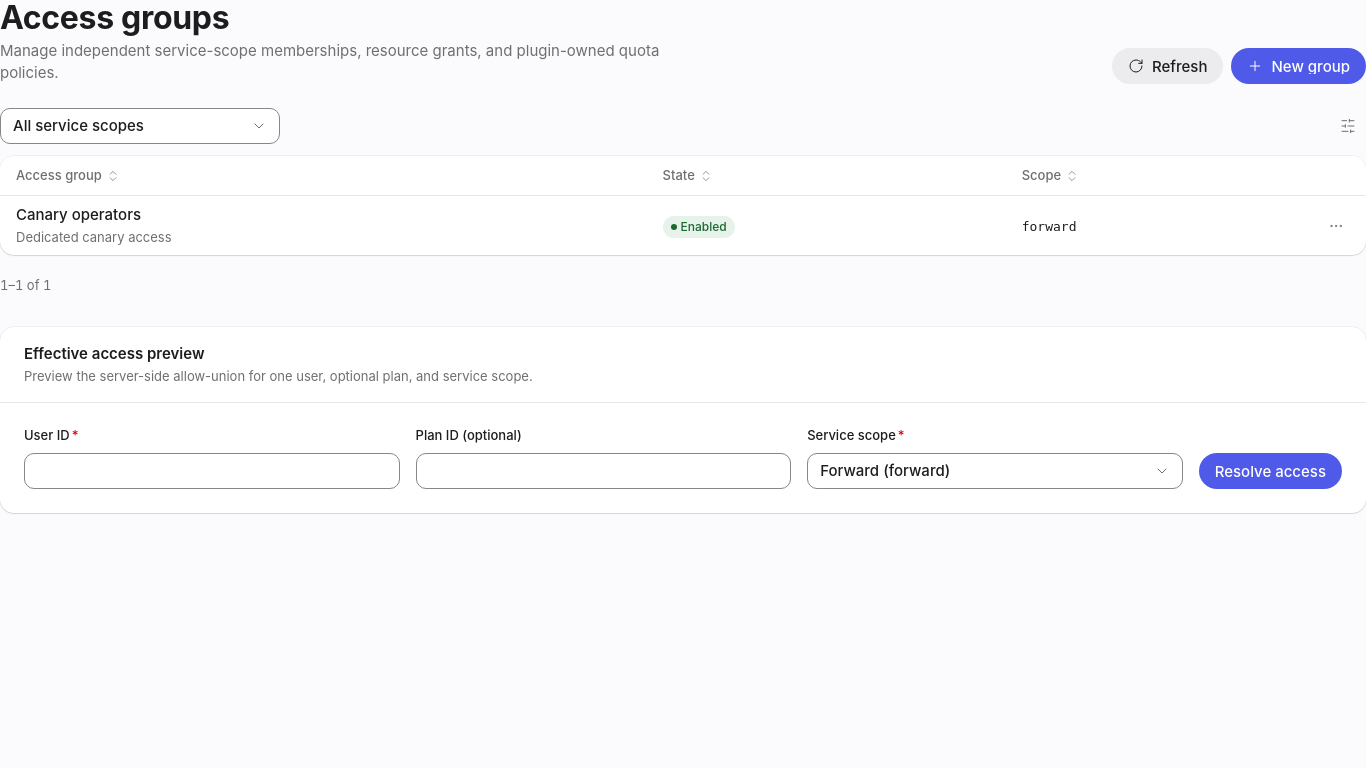
Test: AccessGroups.vue › dialogs and feedback › shows a failed grant removal inside the confirmation
Click the text "Canary operators". click: (78, 215)
box: [16, 205, 141, 224]
(page scrolled)
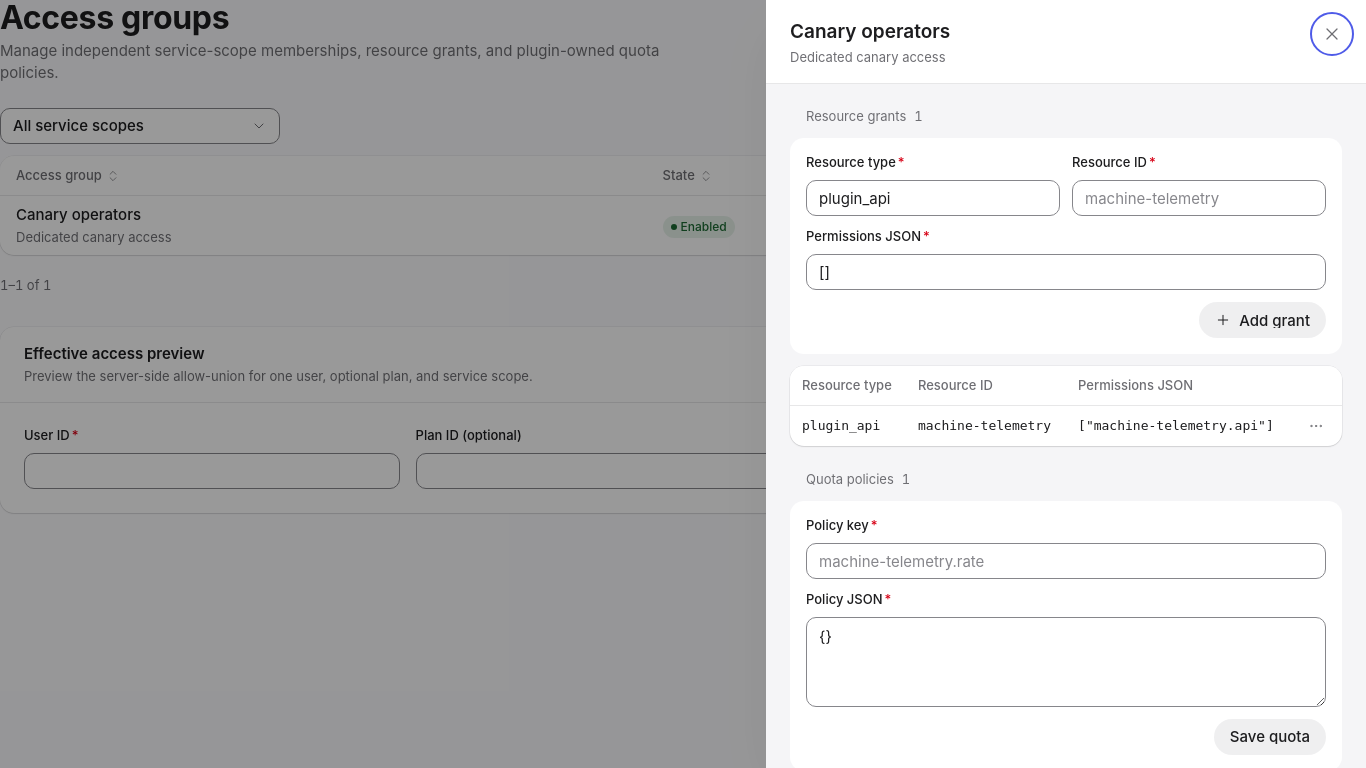
Click the button named "Actions for plugin_api/machine-telemetry". click: (1316, 426)
box: [1302, 412, 1330, 440]
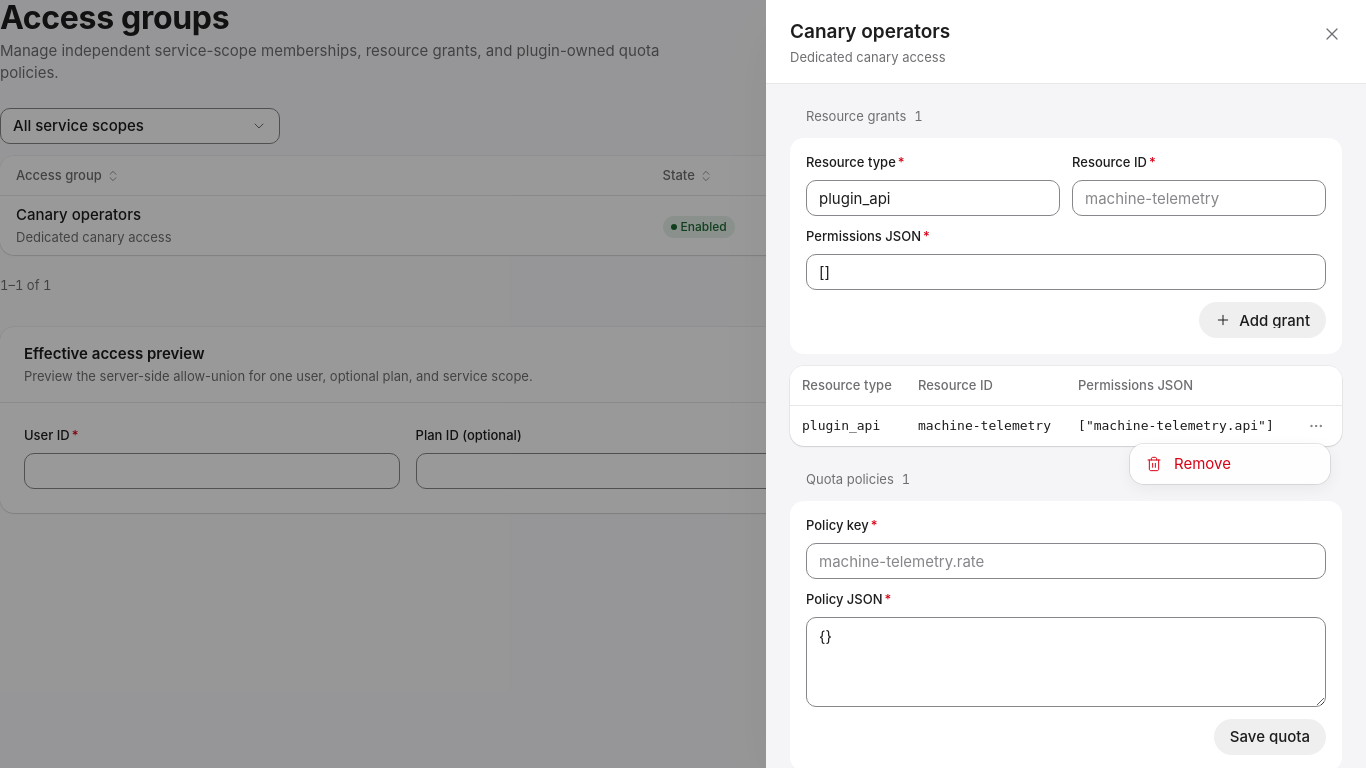
Click the menu item "Remove". click: (1188, 464)
box: [1146, 454, 1231, 473]
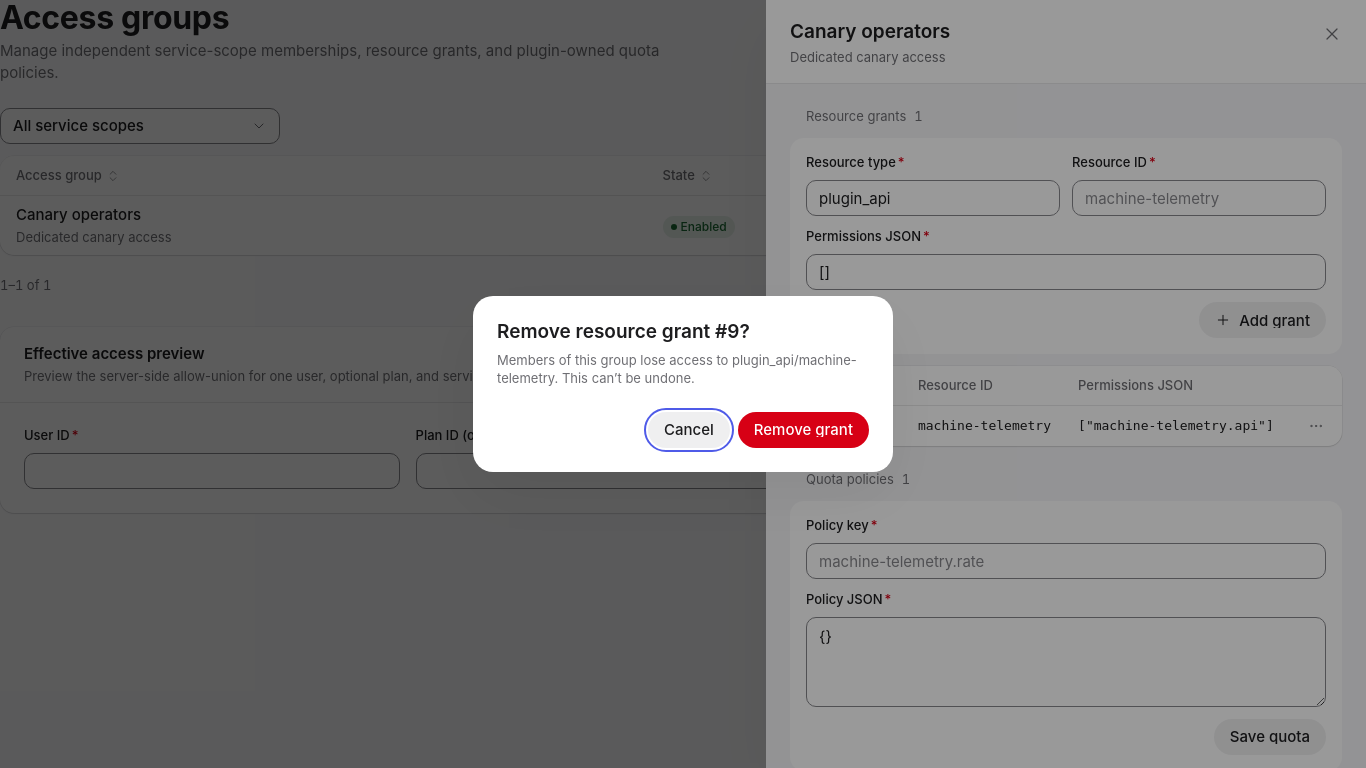
Click the button "Remove grant". click: (803, 430)
box: [738, 412, 869, 448]
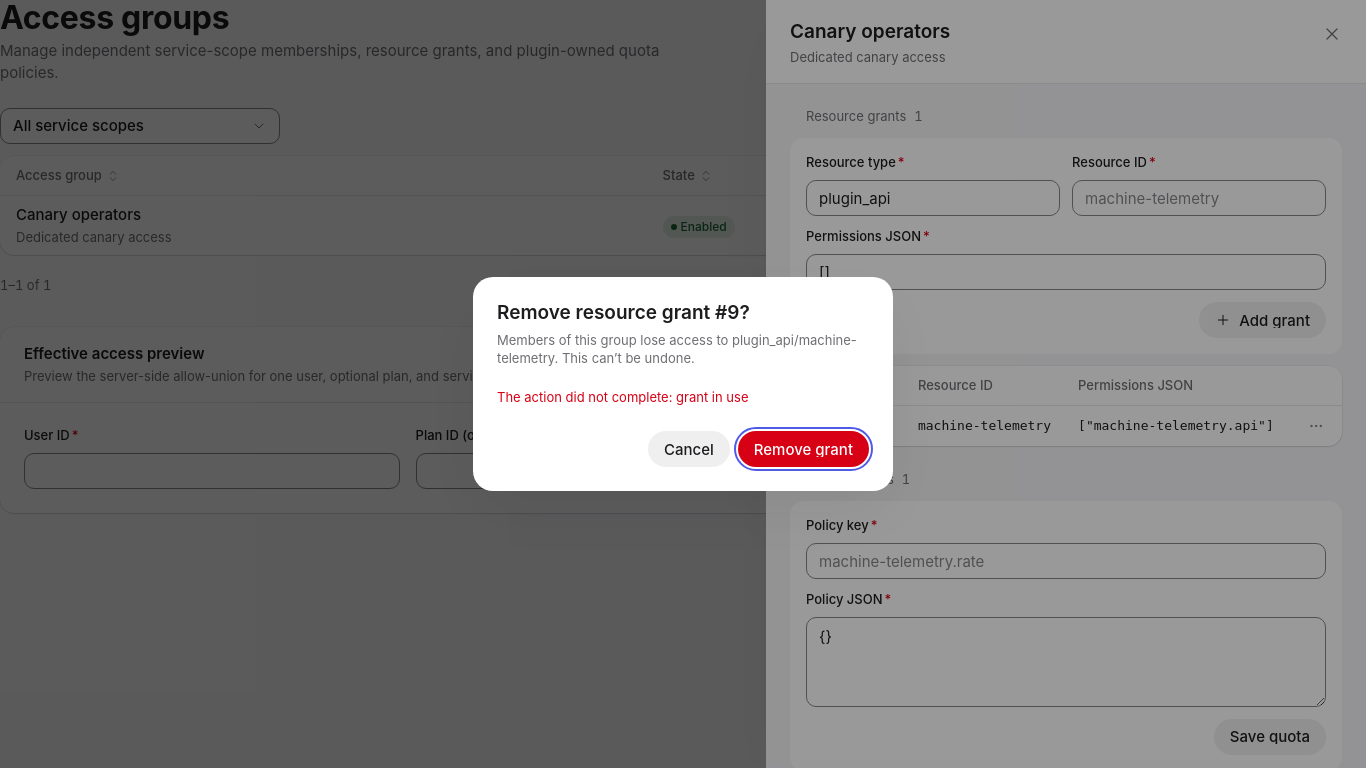
Check: the message shows "grant in use", box [497, 389, 748, 405]
